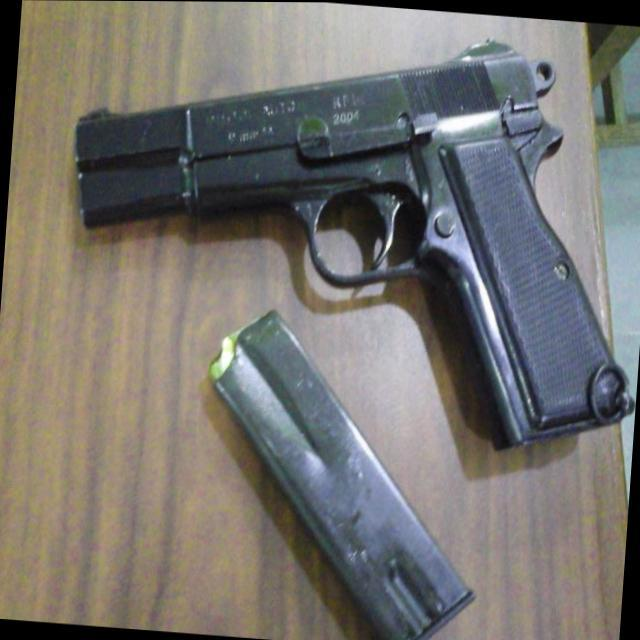weapon: (51, 1, 640, 460)
